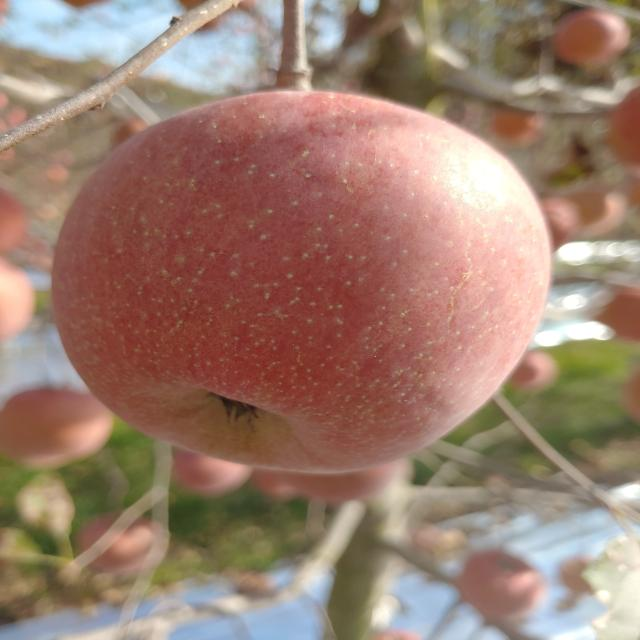fresh: (40, 84, 568, 486)
